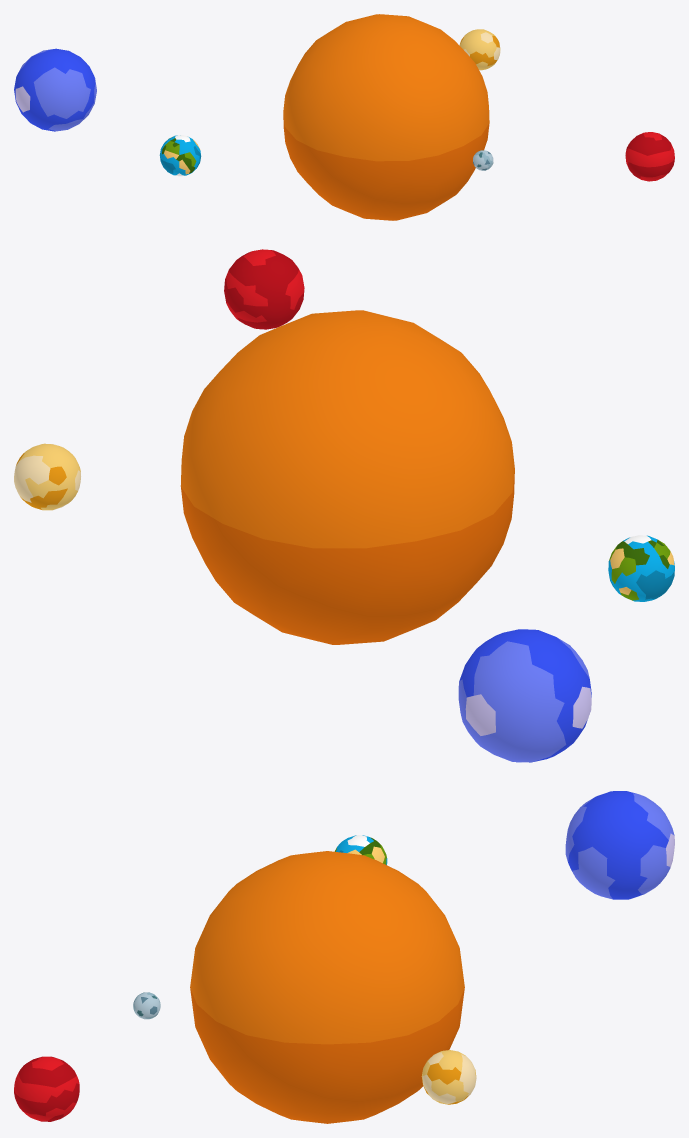
The model's file is sun.glb.
3 renders of one model, top to bottom at view 1: azimuth 30°, elevation 25°; view 2: azimuth 150°, elevation 25°; view 3: azimuth 270°, elevation 25°, orthographic. The views are drawn at different scales.
Visible parts, largest first — view 1: sun, neptune, mars, earth, venus, mercury; view 2: sun, neptune, mars, venus, earth; view 3: sun, neptune, mars, venus, earth, mercury.
Part boxes in pixels (x1,y1,x2,y2): sun: [283, 14, 489, 220]; neptune: [14, 48, 96, 131]; mars: [625, 132, 674, 181]; earth: [159, 135, 201, 176]; venus: [459, 29, 500, 70]; mercury: [473, 150, 493, 170]; sun: [180, 310, 514, 644]; neptune: [458, 629, 591, 762]; mars: [224, 249, 304, 329]; venus: [14, 443, 80, 510]; earth: [608, 535, 674, 601]; sun: [190, 851, 464, 1123]; neptune: [565, 791, 674, 899]; mars: [14, 1056, 79, 1121]; venus: [421, 1050, 476, 1104]; earth: [335, 835, 387, 864]; mercury: [133, 992, 160, 1019].
Bounding box in the file's own units: 17.9 × 7.44 × 17.79.
Materials: 1 (1 with a texture image).
